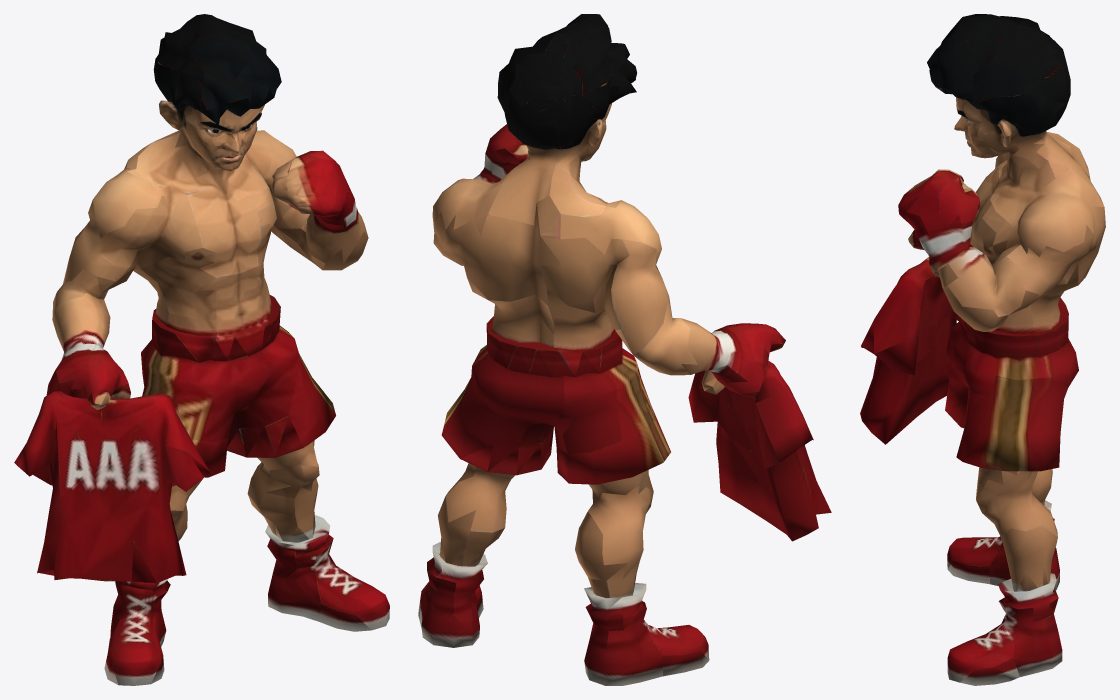
Rendered from p_kong.glb.
3 renders of one model, left to right at view 1: azimuth 30°, elevation 25°; view 2: azimuth 150°, elevation 25°; view 3: azimuth 270°, elevation 25°, orthographic. The views are drawn at different scales.
Parts seen in each view (by area): view 1: mesh_node; view 2: mesh_node; view 3: mesh_node.
Part boxes in pixels (x1,y1,x2,y2): mesh_node: [14, 14, 389, 685]; mesh_node: [418, 14, 831, 685]; mesh_node: [860, 14, 1105, 685].
Size of the model in its own units: 0.6348 by 1 by 0.376.
Materials: 1 (1 with a texture image).
